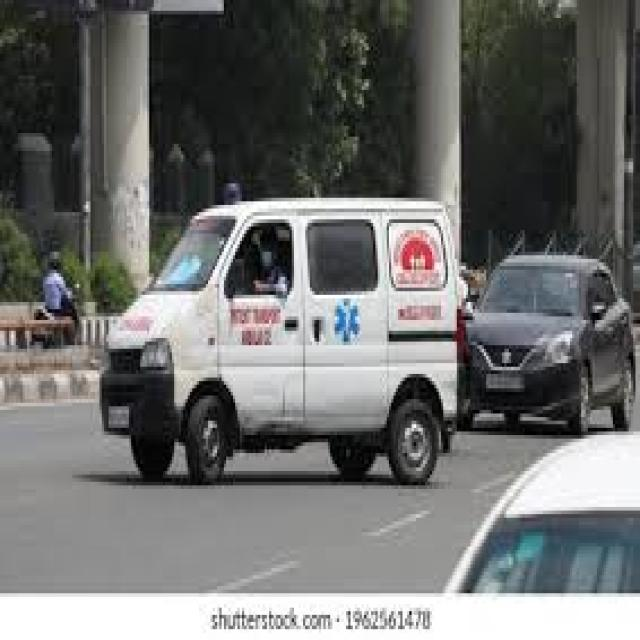ambulance: (82, 170, 462, 509)
